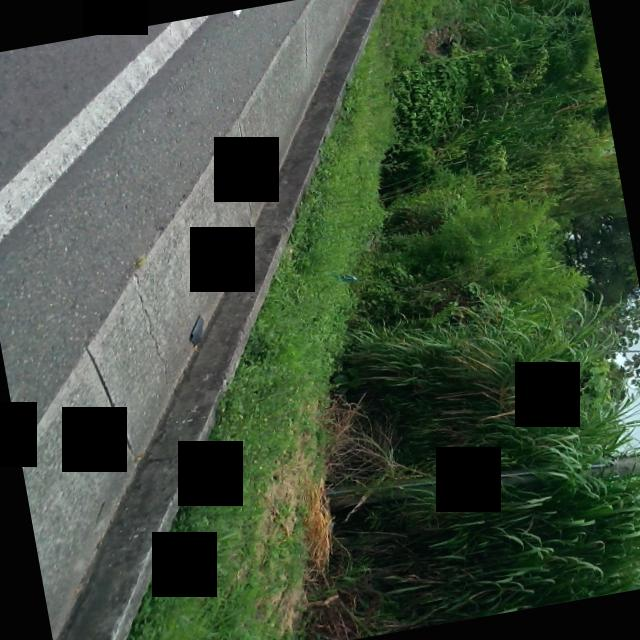DITCH: (0, 0, 629, 640), (0, 0, 493, 640)
